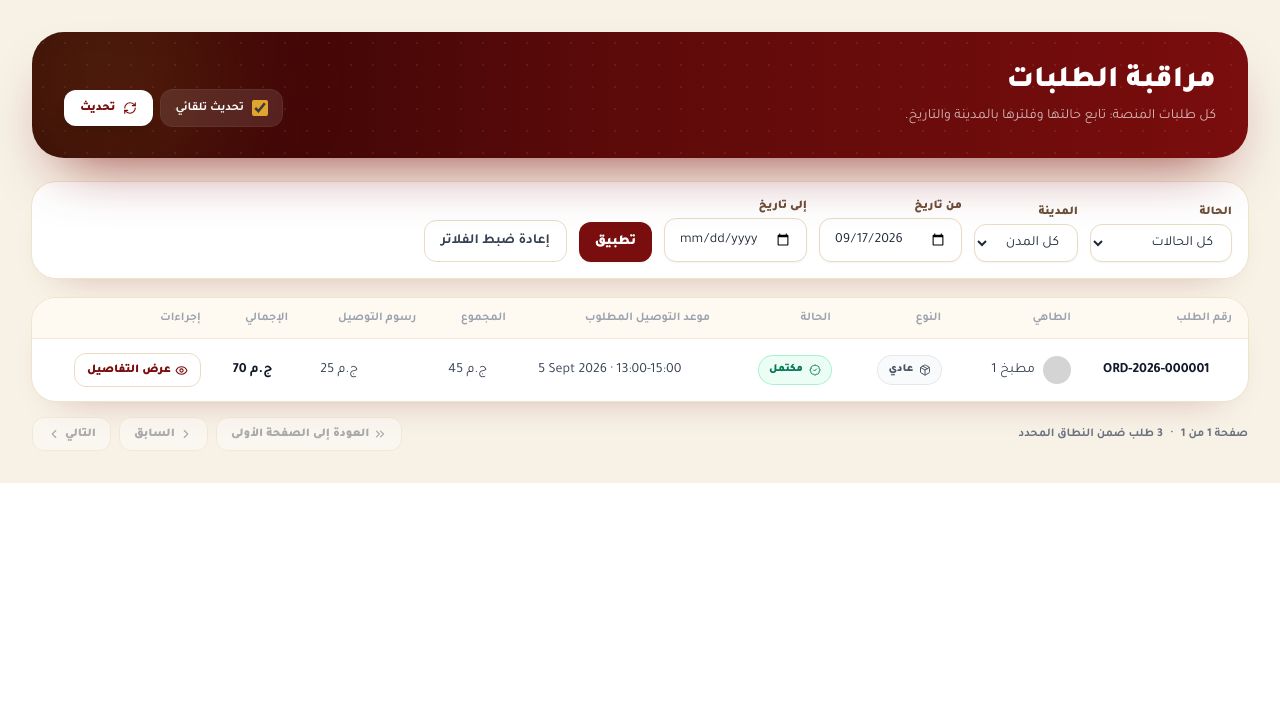
US2 — filter by status, city, and placed-date range › AC7: from later than to is blocked locally — no request, message shown, results kept
The width and height of the screenshot is (1280, 720).
Expected: the text "ORD-2026-000001" is shown, [1087,338,1248,401]
Type "2026-09-10" into the date field labelled "من تاريخ" at coordinates (890, 240), box [819,218,962,262]
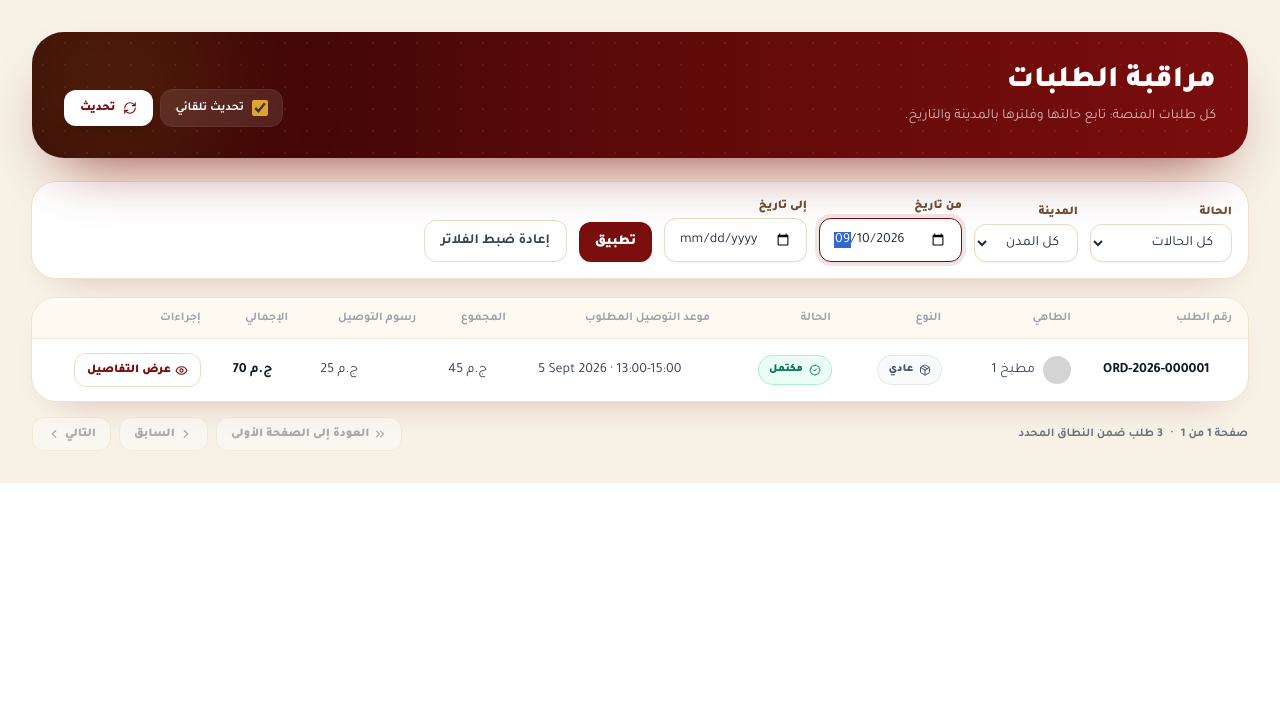
Type "2026-09-01" into the date field labelled "إلى تاريخ" at coordinates (736, 240), box [664,218,807,262]
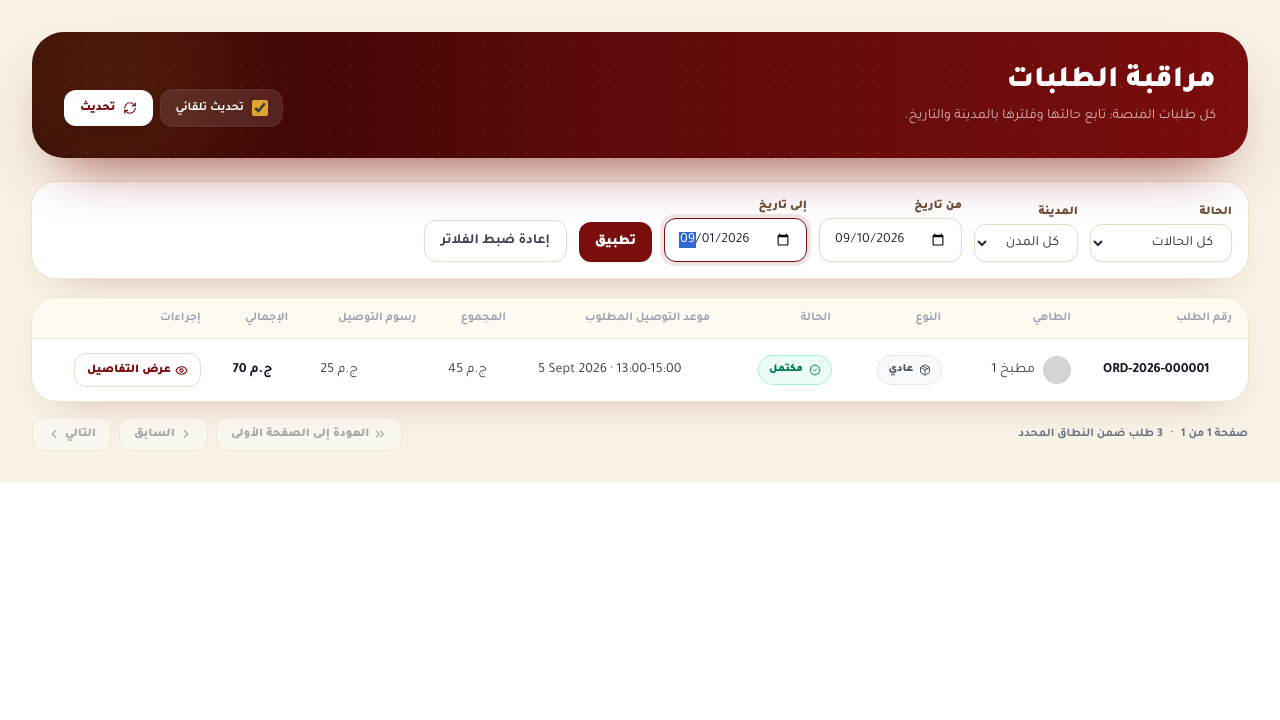
Click the button "تطبيق" at coordinates (615, 242), box [579,222,652,262]
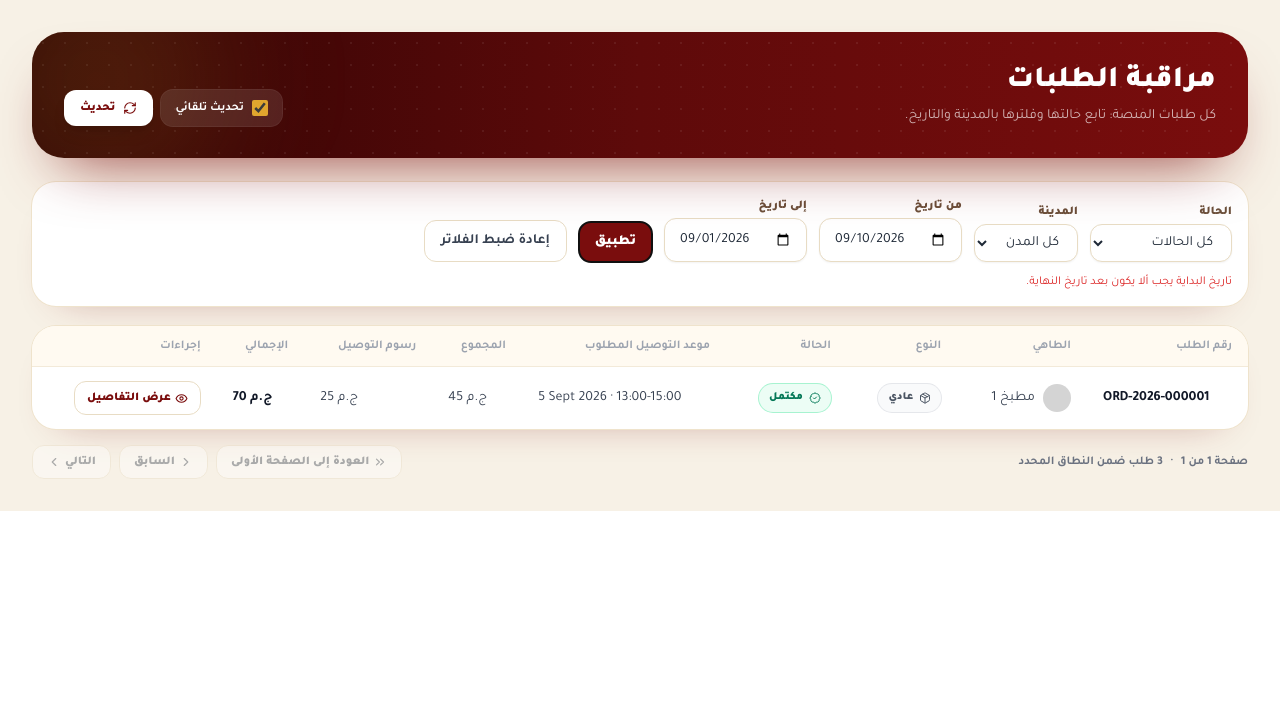
Expected: the text "ORD-2026-000001" is shown, [1087,366,1248,429]
Expected: the text "تاريخ البداية يجب ألا يكون بعد تاريخ النهاية." is shown, [1026,276,1232,288]
